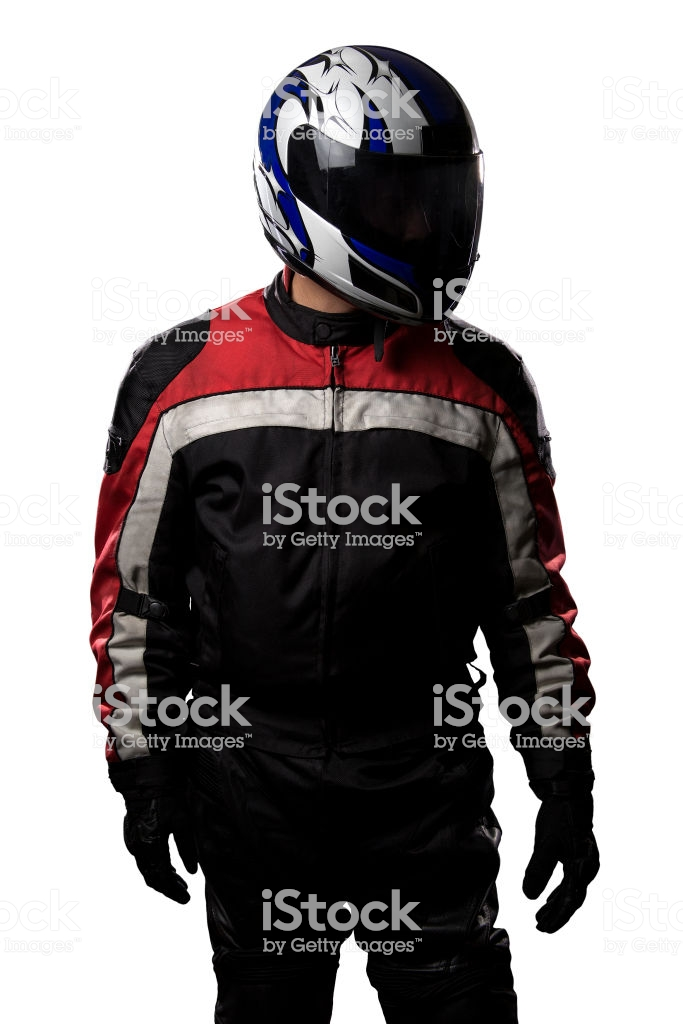helmet: (241, 39, 486, 306)
